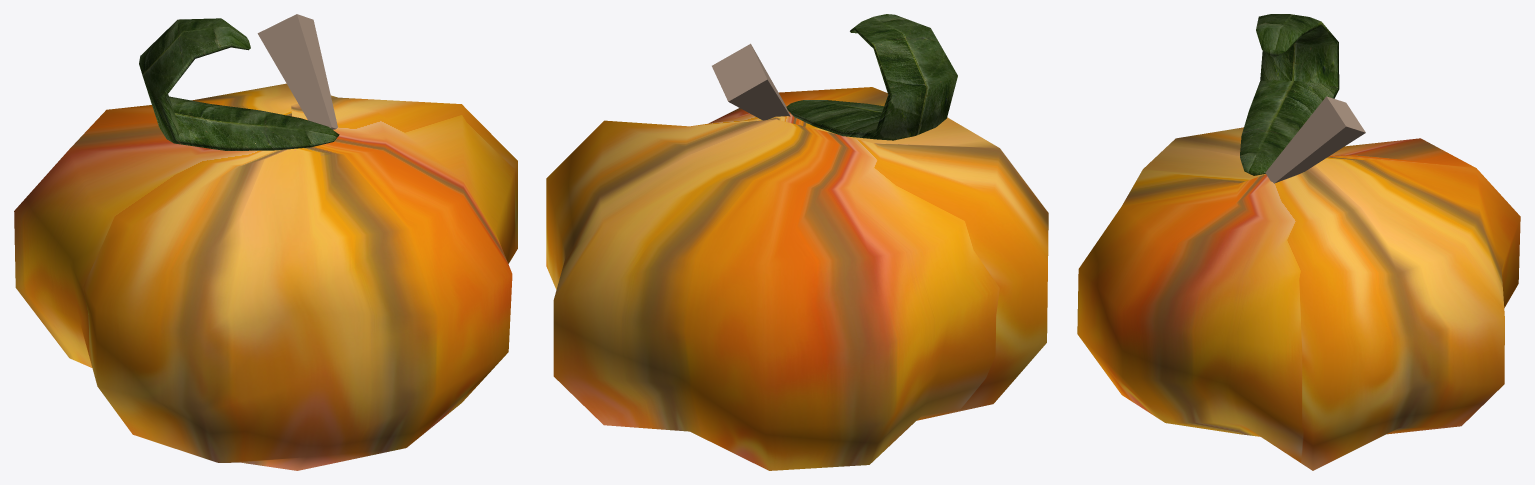
The model's file is pumpkin.fbx.
3 views of the same model, side by side, from view 1: azimuth 30°, elevation 25°; view 2: azimuth 150°, elevation 25°; view 3: azimuth 270°, elevation 25° (orthographic). The views are drawn at different scales.
Visible parts, largest first — view 1: polySurface81; view 2: polySurface81; view 3: polySurface81.
Part boxes in pixels (x1,y1,x2,y2): polySurface81: (14,14,517,470); polySurface81: (546,14,1048,470); polySurface81: (1077,14,1520,470).
Size of the model in its own units: 2.47 by 2.15 by 2.34.
Materials: 3 (2 with a texture image).
